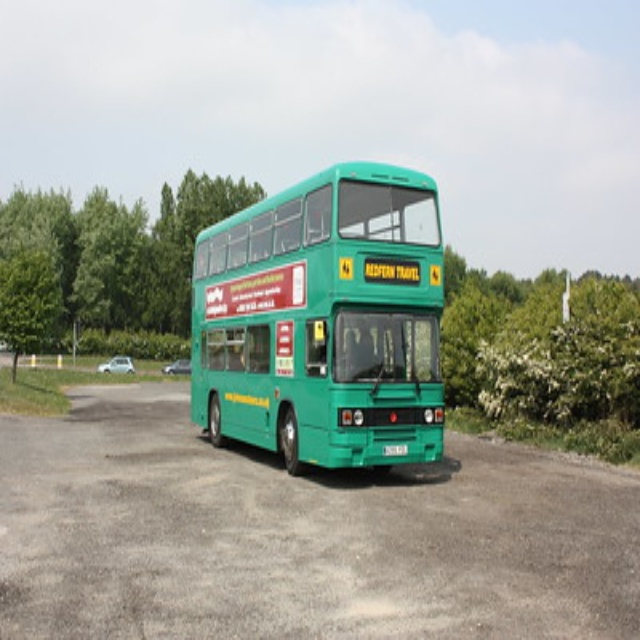Bus: (187, 161, 445, 472)
